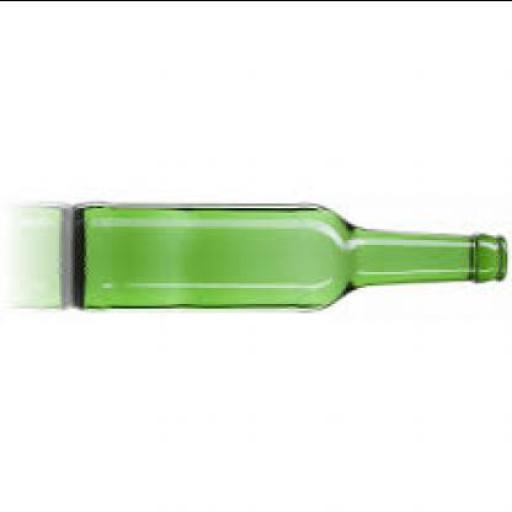glass: (75, 203, 510, 311)
